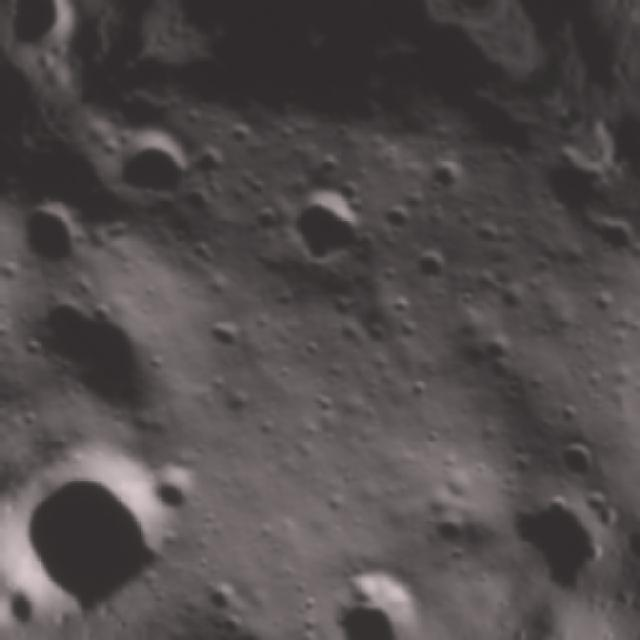crater: (8, 248, 204, 461), (44, 432, 199, 598), (291, 538, 444, 640), (271, 161, 394, 284), (0, 195, 68, 407), (90, 112, 210, 230), (0, 172, 106, 292), (495, 476, 590, 566), (524, 136, 616, 227), (140, 448, 217, 527), (544, 419, 616, 493), (578, 200, 640, 275), (192, 597, 296, 640), (412, 140, 479, 206), (187, 568, 253, 634), (195, 302, 259, 368), (394, 233, 458, 295), (423, 501, 477, 557), (180, 135, 234, 191), (485, 270, 538, 322), (371, 189, 422, 243), (477, 325, 529, 377), (620, 470, 640, 493)
